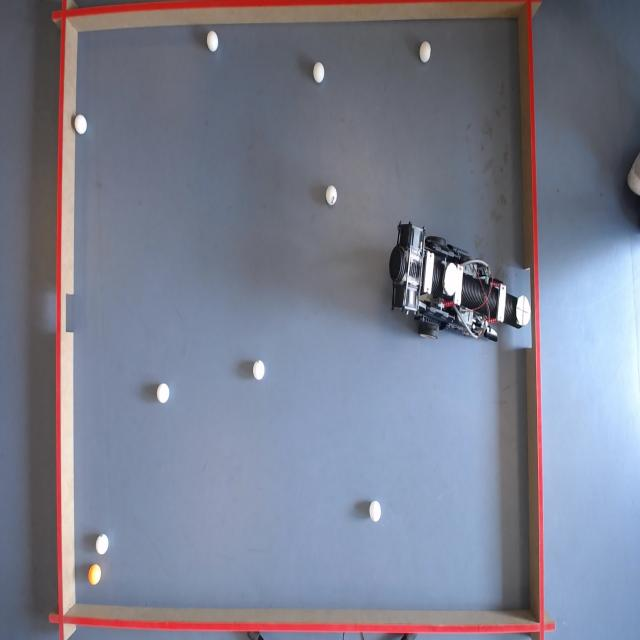orange: (89, 564, 103, 586)
robot: (381, 225, 530, 342)
robot-front: (516, 296, 532, 327)
robot-rear: (444, 266, 460, 296)
white: (368, 500, 382, 522), (252, 360, 266, 381), (158, 383, 172, 404), (96, 534, 110, 555), (313, 62, 326, 84), (75, 114, 88, 136), (207, 31, 220, 52), (420, 41, 432, 63), (325, 185, 337, 205)
